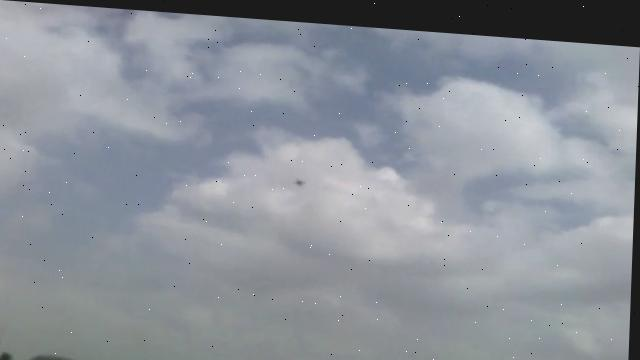drone: (295, 171, 308, 182)
